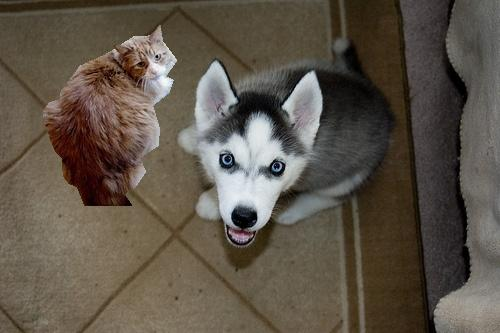tampered: (43, 26, 177, 206)
